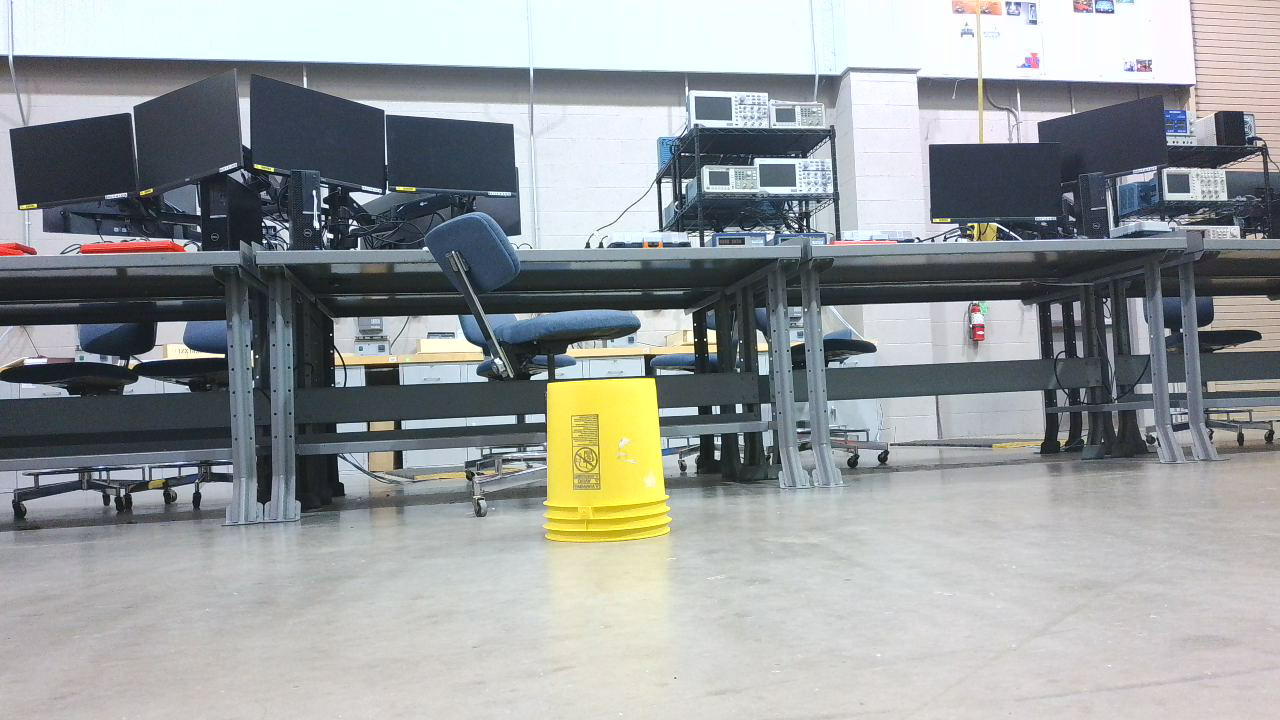yellow_bucket: (544, 377, 684, 554)
